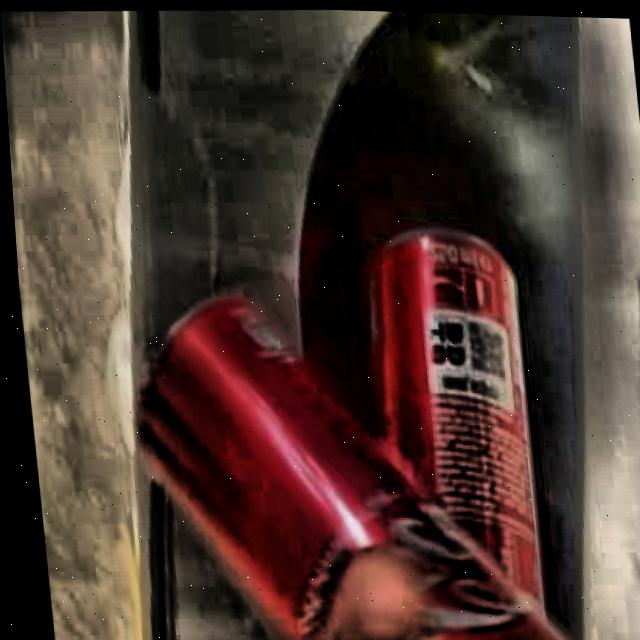metal: (133, 231, 557, 640)
